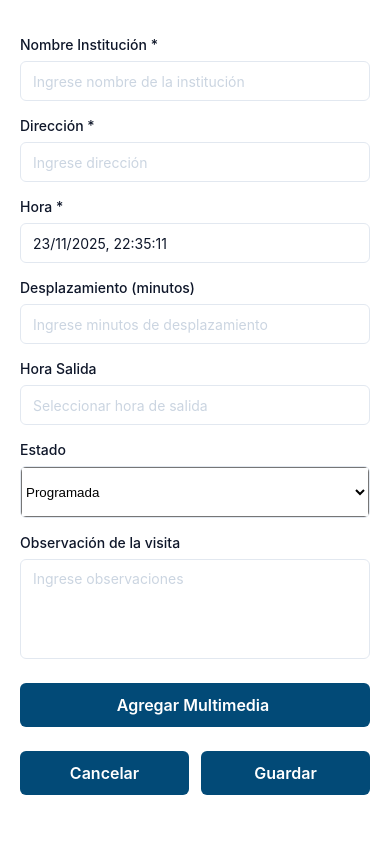
it: VisitForm - Multimedia Upload › muestra el contador de archivos en el botón
The width and height of the screenshot is (390, 844).
Click the text "Agregar Multimedia" at (195, 705), box [117,695,273,715]
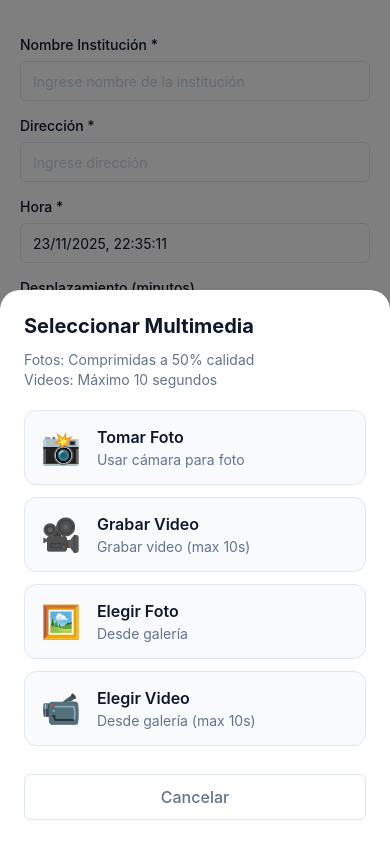
Click the text "Tomar Foto" at (140, 437), box [97,427,184,447]
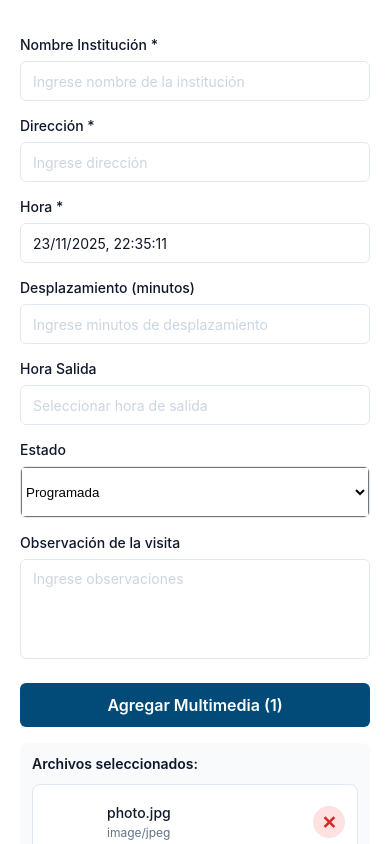
Result: the text "Agregar Multimedia (1)" is shown at [107,695,283,715]
